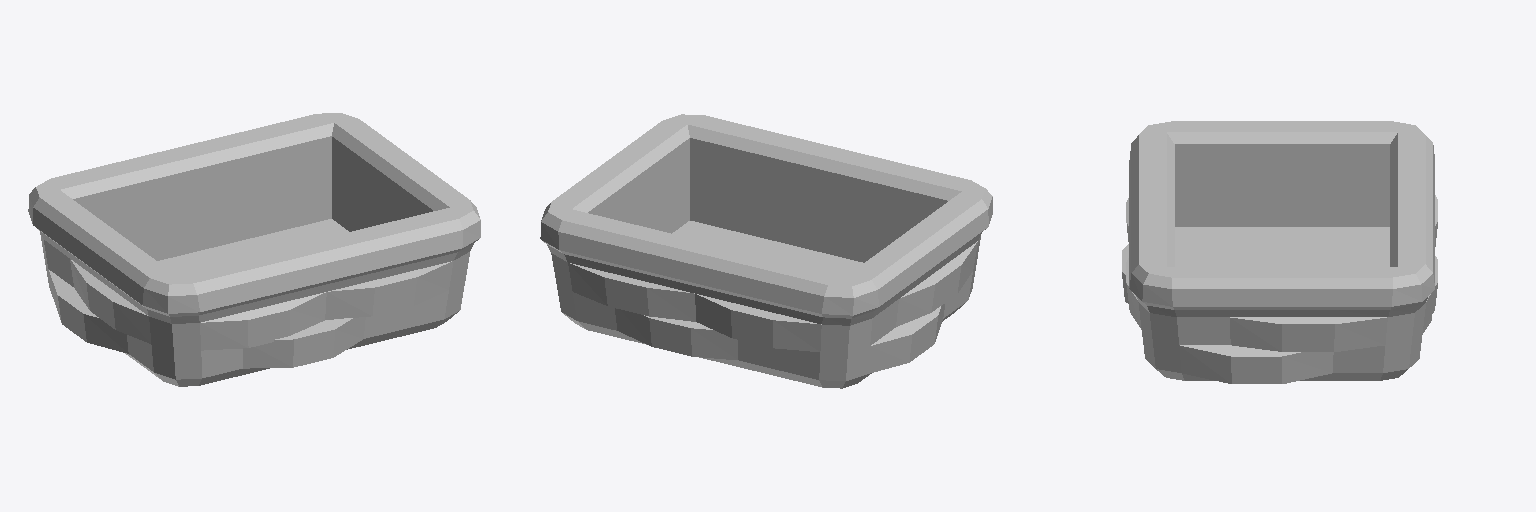
File: basket_A.obj
3 views of the same model, side by side, from view 1: azimuth 30°, elevation 25°; view 2: azimuth 150°, elevation 25°; view 3: azimuth 270°, elevation 25° (orthographic).
Visible parts, largest first — view 1: basket_A; view 2: basket_A; view 3: basket_A.
Part boxes in pixels (bbox=[...]): basket_A: bbox=[28, 113, 480, 386]; basket_A: bbox=[540, 114, 992, 388]; basket_A: bbox=[1122, 121, 1437, 383].
Bounding box in the file's own units: 1 × 0.315 × 0.8.